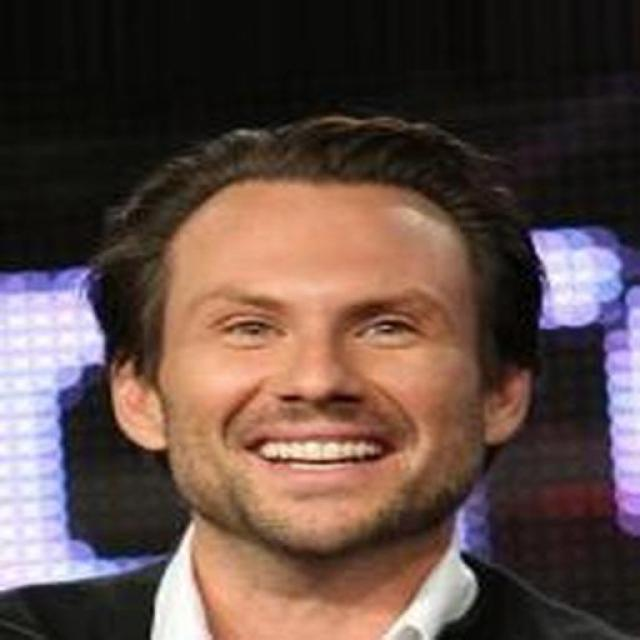bareface: (80, 138, 546, 538)
